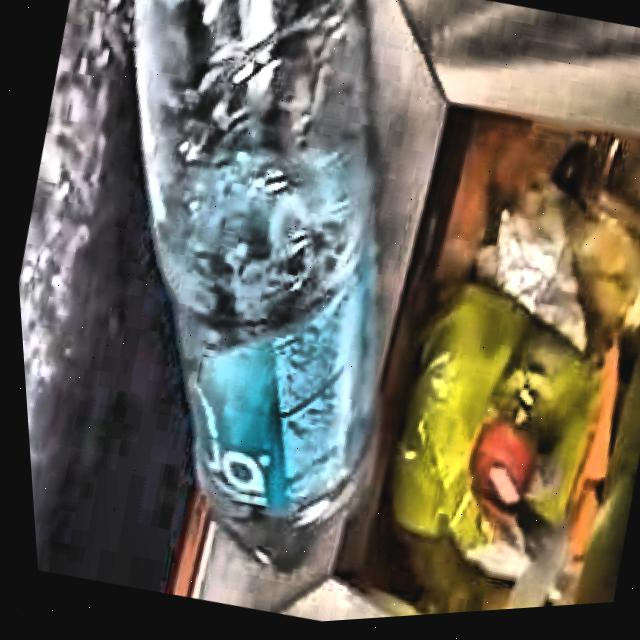plastic: (133, 0, 369, 564)
